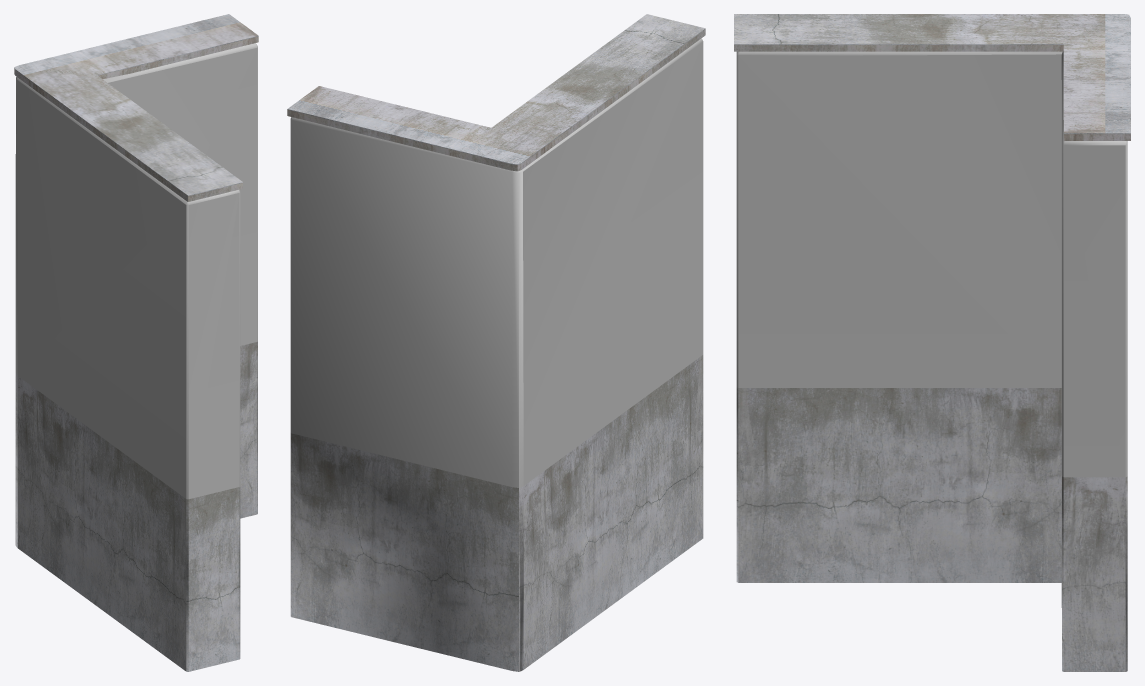
The model's file is entgate_parts02d.fbx.
The picture shows the model from 3 angles, left to right: view 1: azimuth 30°, elevation 25°; view 2: azimuth 150°, elevation 25°; view 3: azimuth 270°, elevation 25°; orthographic projection. The views are drawn at different scales.
Parts seen in each view (by area): view 1: entgate_parts02d; view 2: entgate_parts02d; view 3: entgate_parts02d.
Boxes of the visible parts, box(x1,y1,x2,y2) form: entgate_parts02d: box(14, 14, 258, 671); entgate_parts02d: box(287, 14, 705, 671); entgate_parts02d: box(734, 14, 1130, 671).
Size of the model in its own units: 0.7642 by 1.61 by 1.07.
